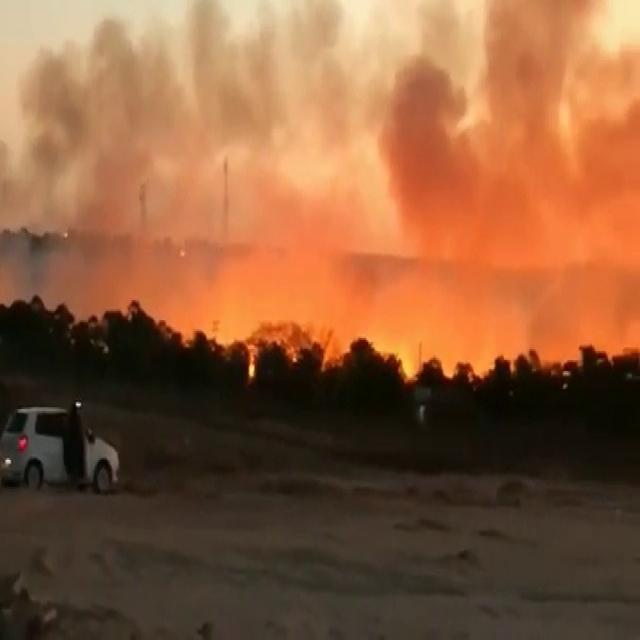Fire: (379, 328, 428, 390), (240, 338, 260, 375)
Smoke: (10, 11, 631, 391), (223, 276, 539, 398), (0, 231, 192, 336)
